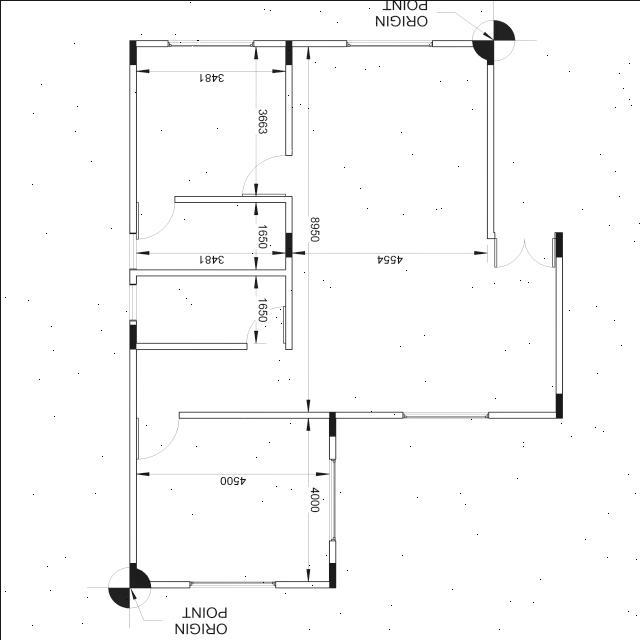Column: (554, 231, 562, 257), (554, 392, 562, 418), (128, 562, 136, 587), (328, 411, 336, 436), (128, 39, 136, 64), (486, 39, 494, 64), (128, 324, 136, 348), (284, 232, 292, 256), (284, 40, 292, 64), (328, 562, 335, 587)
Door: (242, 154, 292, 196), (135, 412, 178, 458), (135, 196, 174, 238), (247, 306, 284, 348)
Double-Door: (494, 238, 554, 266)
Window: (188, 580, 276, 588), (328, 458, 336, 540), (402, 411, 488, 418), (346, 40, 432, 46), (167, 40, 253, 46), (128, 283, 136, 320), (128, 232, 136, 269)
